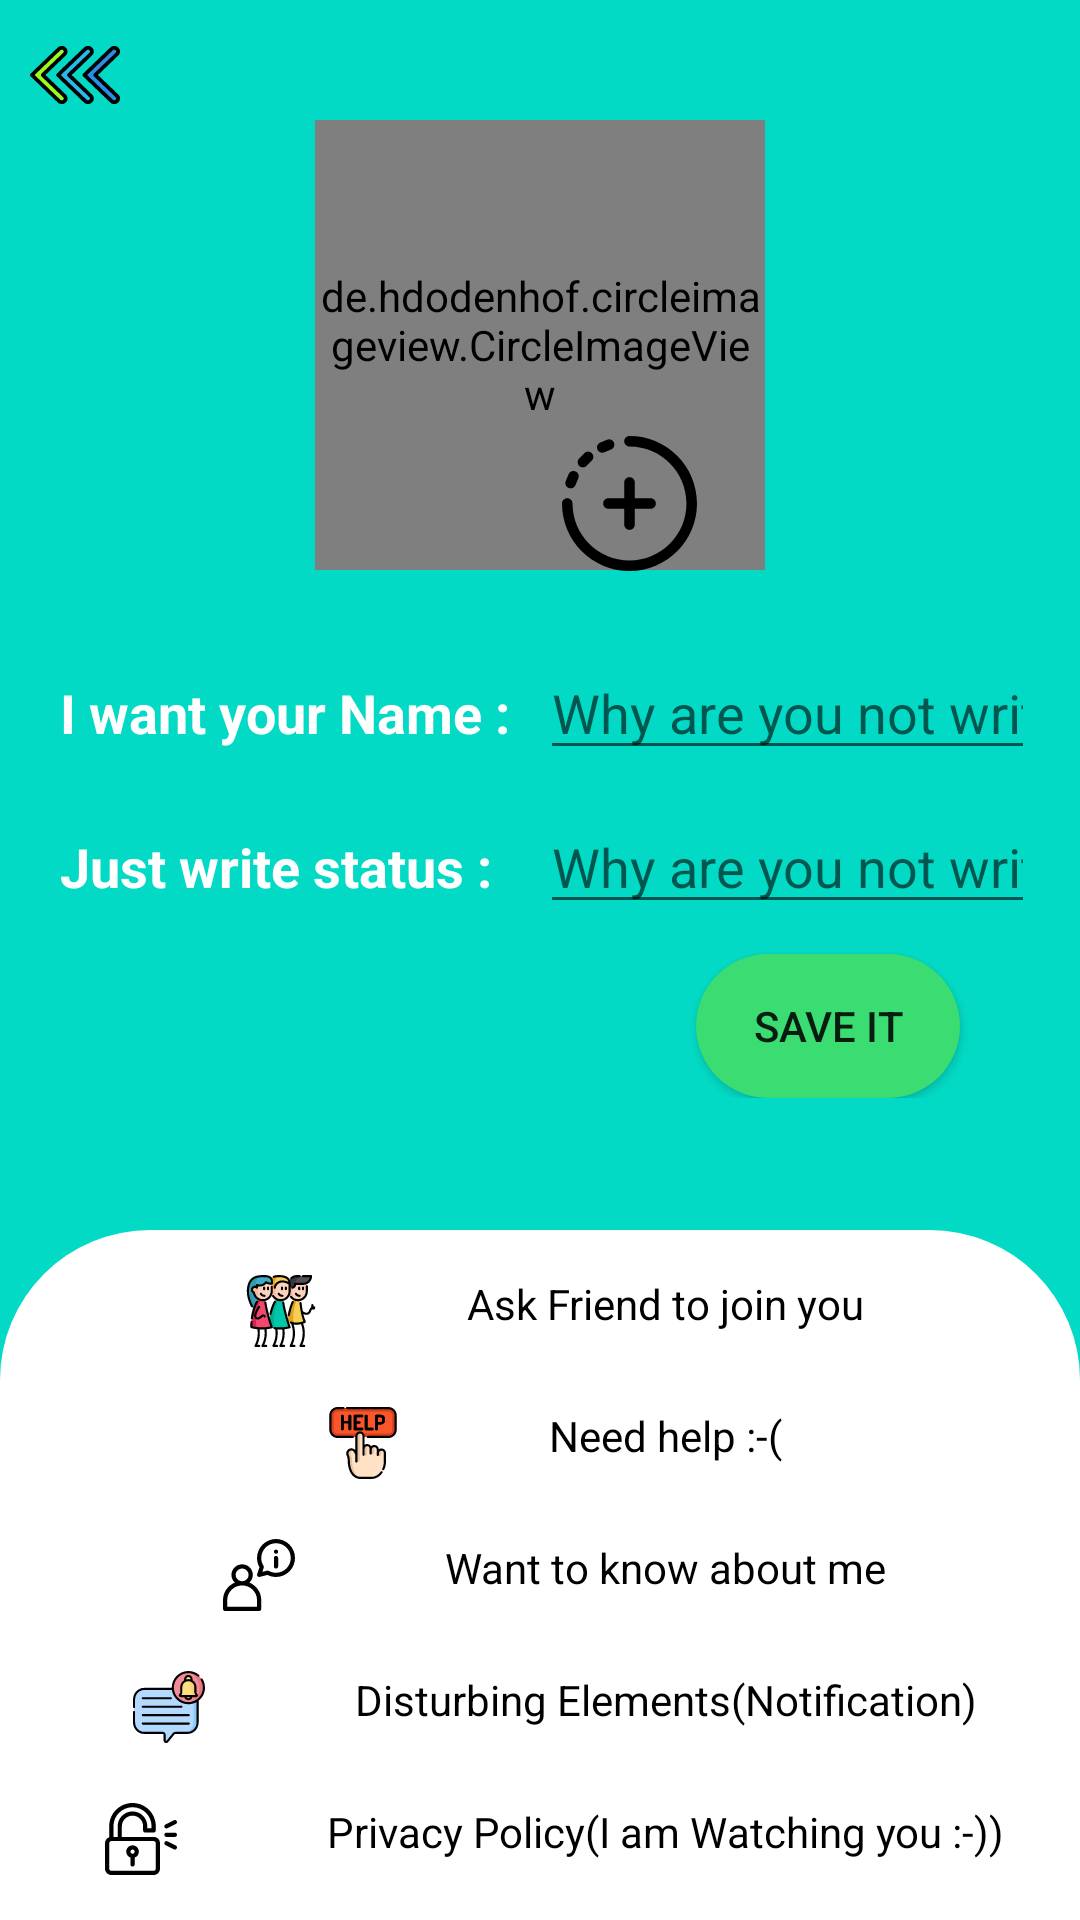

Icon click points for this 1080px x 1920px phone screenshot, format (x=x, y=y):
left arrow: (x=75, y=75)
